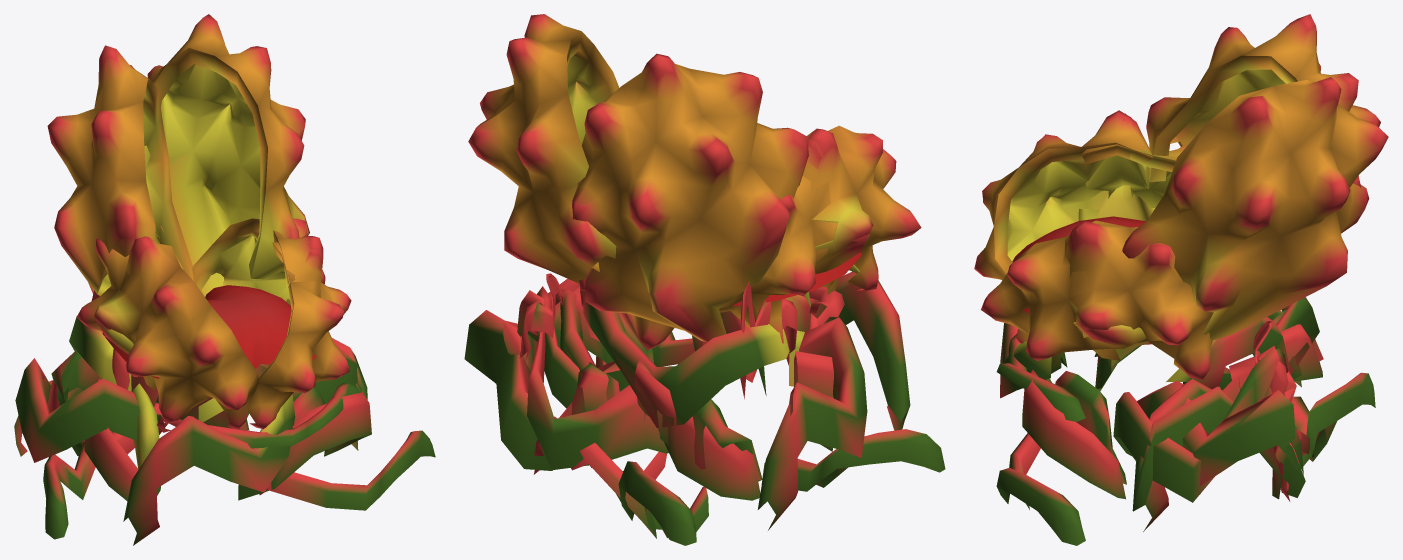
File: Bulb_up2_1.fbx
3 views of the same model, side by side, from view 1: azimuth 30°, elevation 25°; view 2: azimuth 150°, elevation 25°; view 3: azimuth 270°, elevation 25° (orthographic). The views are drawn at different scales.
Parts seen in each view (by area): view 1: polySurface3; view 2: polySurface3; view 3: polySurface3.
Boxes of the visible parts, x1,y1,x2,y2 form: polySurface3: (14, 14, 435, 545); polySurface3: (464, 14, 945, 545); polySurface3: (974, 14, 1388, 545).
Bounding box in the file's own units: 395 × 428 × 355.
